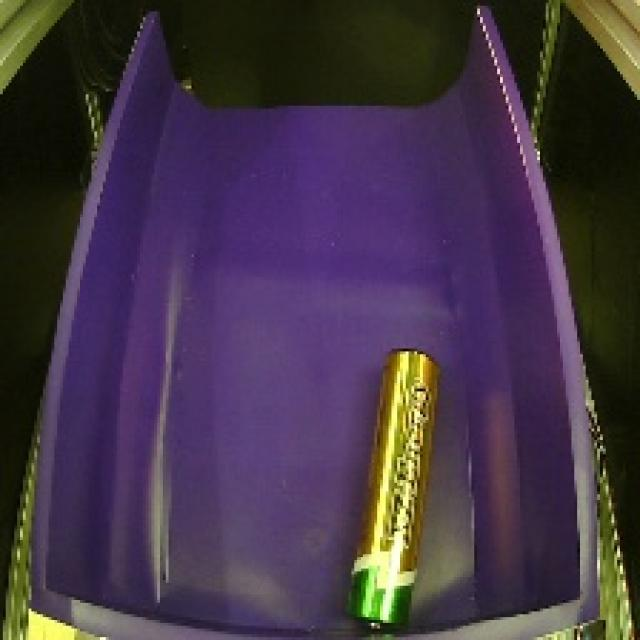battery: (335, 337, 449, 639)
